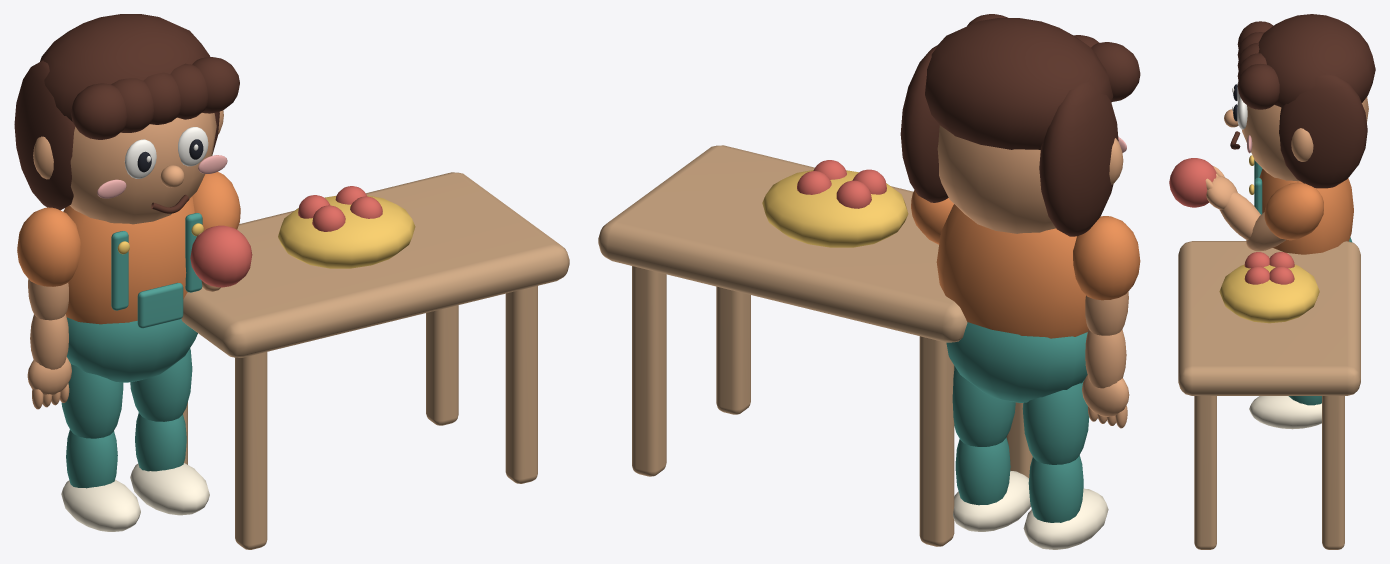
Rendered from word-eat.glb.
The picture shows the model from 3 angles, left to right: view 1: azimuth 30°, elevation 25°; view 2: azimuth 150°, elevation 25°; view 3: azimuth 270°, elevation 25°; orthographic projection. The views are drawn at different scales.
Visible parts, largest first — view 1: table top, hair cap, soft shirt, clay head, table leg, table leg.002, overalls, food bowl, bob hair, shirt sleeve, table leg.003, trouser leg (+22 smaller); view 2: table top, hair cap, soft shirt, bob hair, clay head, overalls, table leg.003, table leg.001, food bowl, shirt sleeve, table leg.002, trouser leg (+14 smaller); view 3: table top, bob hair.001, hair cap, food bowl, table leg.002, table leg.003, soft shirt, shirt sleeve.001, clay head, little shoe.001, little apple, fringe.004 (+13 smaller).
Boxes of the visible parts, bbox=[...] form: table top: bbox=[181, 172, 569, 357]; hair cap: bbox=[40, 14, 210, 121]; soft shirt: bbox=[63, 197, 194, 324]; clay head: bbox=[69, 113, 216, 224]; table leg: bbox=[235, 352, 267, 549]; table leg.002: bbox=[505, 286, 537, 483]; overalls: bbox=[66, 317, 197, 382]; food bowl: bbox=[278, 195, 415, 268]; bob hair: bbox=[14, 60, 75, 210]; shirt sleeve: bbox=[17, 207, 80, 286]; table leg.003: bbox=[426, 305, 458, 425]; trouser leg: bbox=[61, 364, 123, 438]; table top: bbox=[598, 145, 967, 342]; hair cap: bbox=[925, 18, 1113, 149]; soft shirt: bbox=[936, 204, 1088, 338]; bob hair: bbox=[1039, 82, 1118, 236]; clay head: bbox=[937, 125, 1055, 233]; overalls: bbox=[946, 322, 1087, 402]; table leg.003: bbox=[632, 266, 666, 476]; table leg.001: bbox=[919, 336, 954, 546]; food bowl: bbox=[762, 170, 908, 247]; shirt sleeve: bbox=[1073, 216, 1140, 300]; table leg.002: bbox=[716, 286, 750, 414]; trouser leg: bbox=[1022, 381, 1089, 464]; table top: bbox=[1178, 241, 1360, 395]; bob hair.001: bbox=[1279, 74, 1367, 188]; hair cap: bbox=[1258, 14, 1375, 107]; food bowl: bbox=[1219, 264, 1319, 323]; table leg.002: bbox=[1194, 396, 1216, 549]; table leg.003: bbox=[1322, 396, 1344, 549]; soft shirt: bbox=[1259, 168, 1353, 254]; shirt sleeve.001: bbox=[1264, 182, 1323, 240]; clay head: bbox=[1241, 97, 1368, 181]; little shoe.001: bbox=[1249, 396, 1321, 429]; little apple: bbox=[1169, 158, 1216, 207]; fringe.004: bbox=[1237, 64, 1279, 109].
Size of the model in its own units: 1.93 by 1.9 by 0.905.
